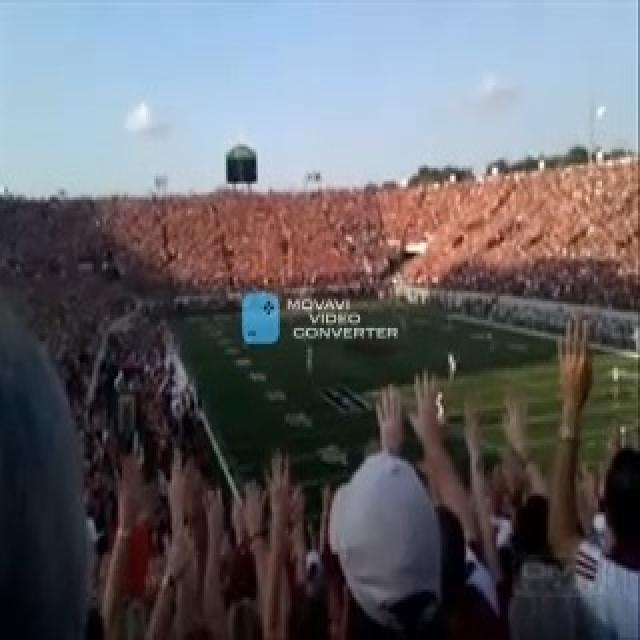non-voilence: (72, 302, 638, 638)
